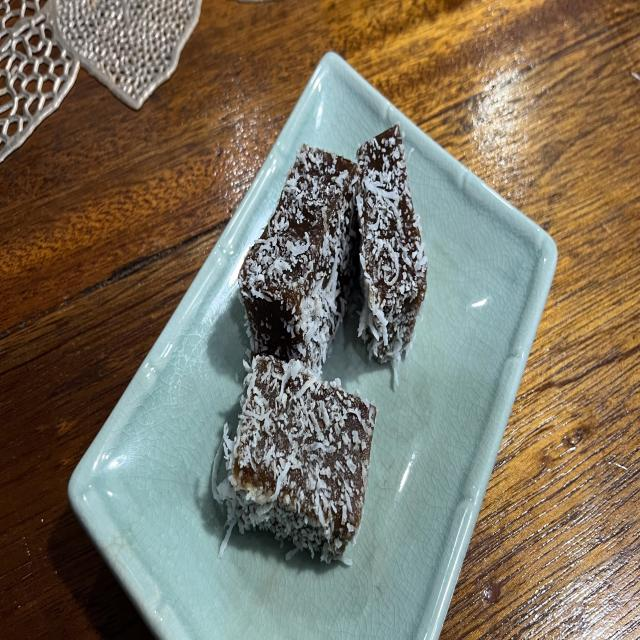kaswi: (212, 356, 376, 562), (239, 144, 358, 371), (356, 124, 428, 384)
